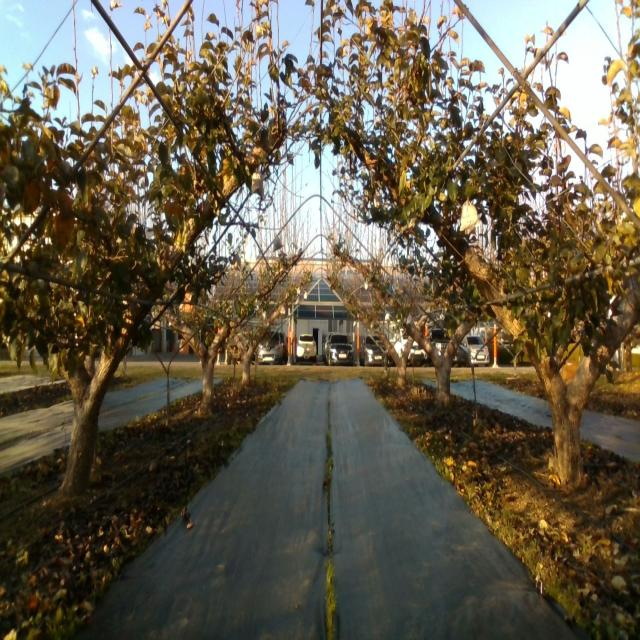pearbags: (459, 200, 481, 234), (252, 172, 264, 198)
